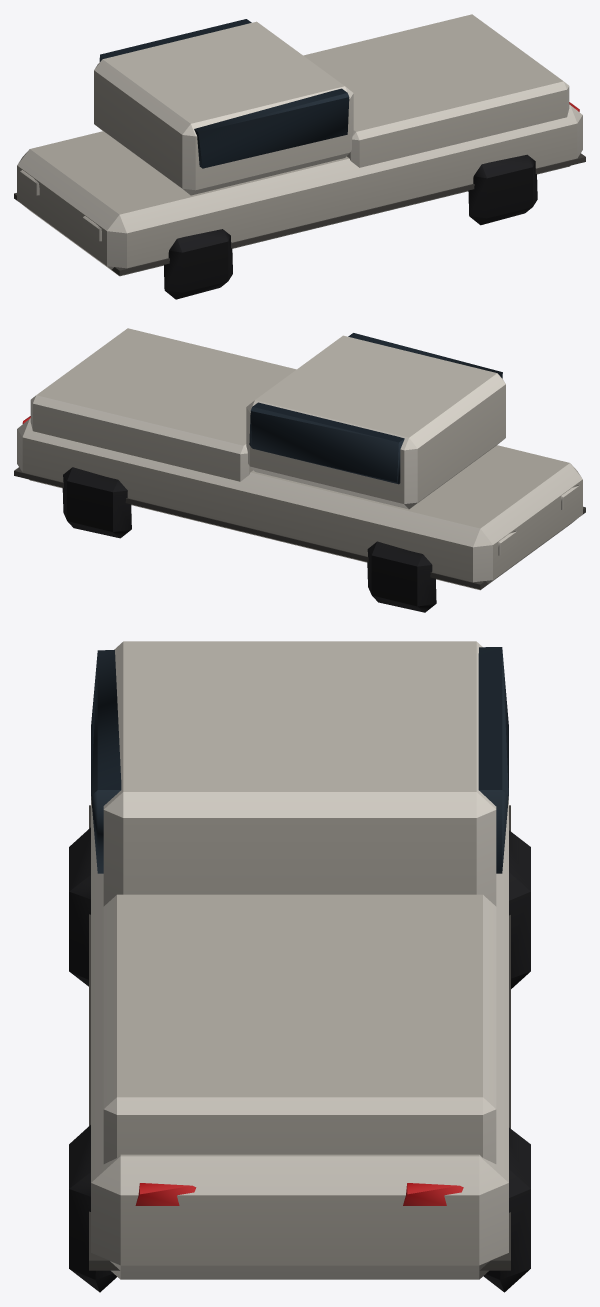
File: car-pickup-v1.lod1.glb
The picture shows the model from 3 angles, top to bottom: view 1: azimuth 30°, elevation 25°; view 2: azimuth 150°, elevation 25°; view 3: azimuth 270°, elevation 25°; orthographic projection. The views are drawn at different scales.
Parts seen in each view (by area): view 1: car-pickup-v1.lod1; view 2: car-pickup-v1.lod1; view 3: car-pickup-v1.lod1.
Part boxes in pixels (x1,y1,x2,y2): car-pickup-v1.lod1: [14, 14, 585, 299]; car-pickup-v1.lod1: [14, 328, 585, 612]; car-pickup-v1.lod1: [69, 641, 530, 1292].
Size of the model in its own units: 5.05 by 1.66 by 2.1.
